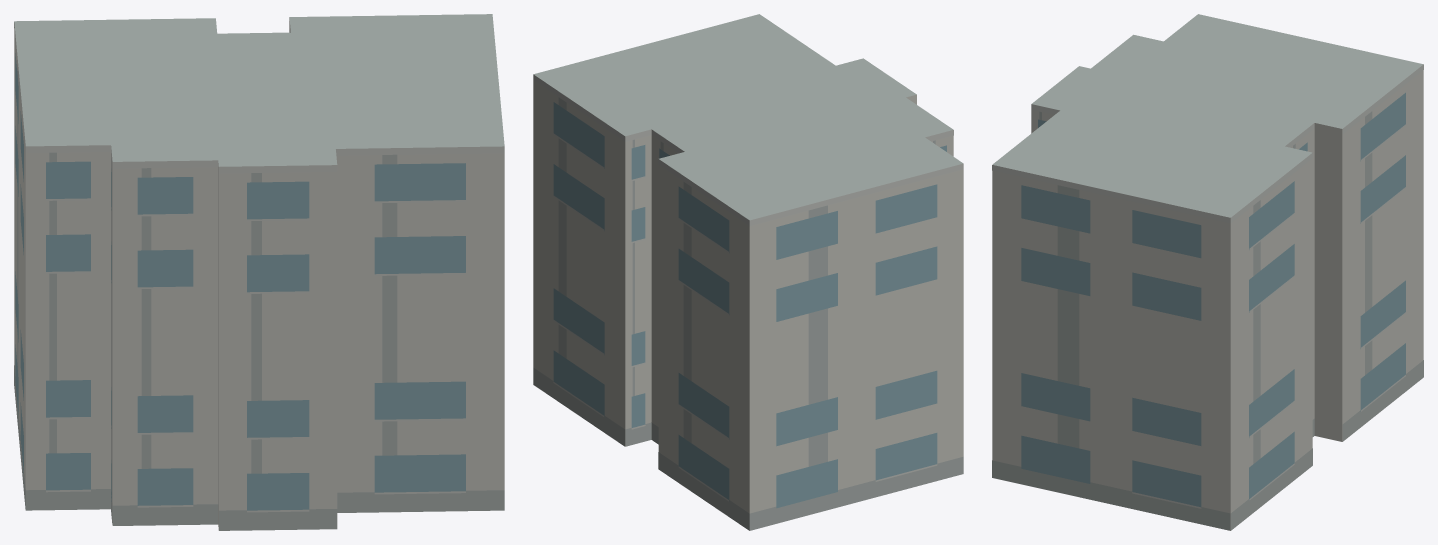
Rendered from survey-upis-32607578.glb.
The picture shows the model from 3 angles, left to right: view 1: azimuth 30°, elevation 25°; view 2: azimuth 150°, elevation 25°; view 3: azimuth 270°, elevation 25°; orthographic projection. The views are drawn at different scales.
Visible parts, largest first — view 1: survey-upis-32607578.tmp; view 2: survey-upis-32607578.tmp; view 3: survey-upis-32607578.tmp.
Boxes of the visible parts, box(x1,y1,x2,y2) form: survey-upis-32607578.tmp: box(14, 14, 504, 530); survey-upis-32607578.tmp: box(533, 14, 963, 530); survey-upis-32607578.tmp: box(992, 14, 1423, 530).
Size of the model in its own units: 18.44 by 13.2 by 16.5.
